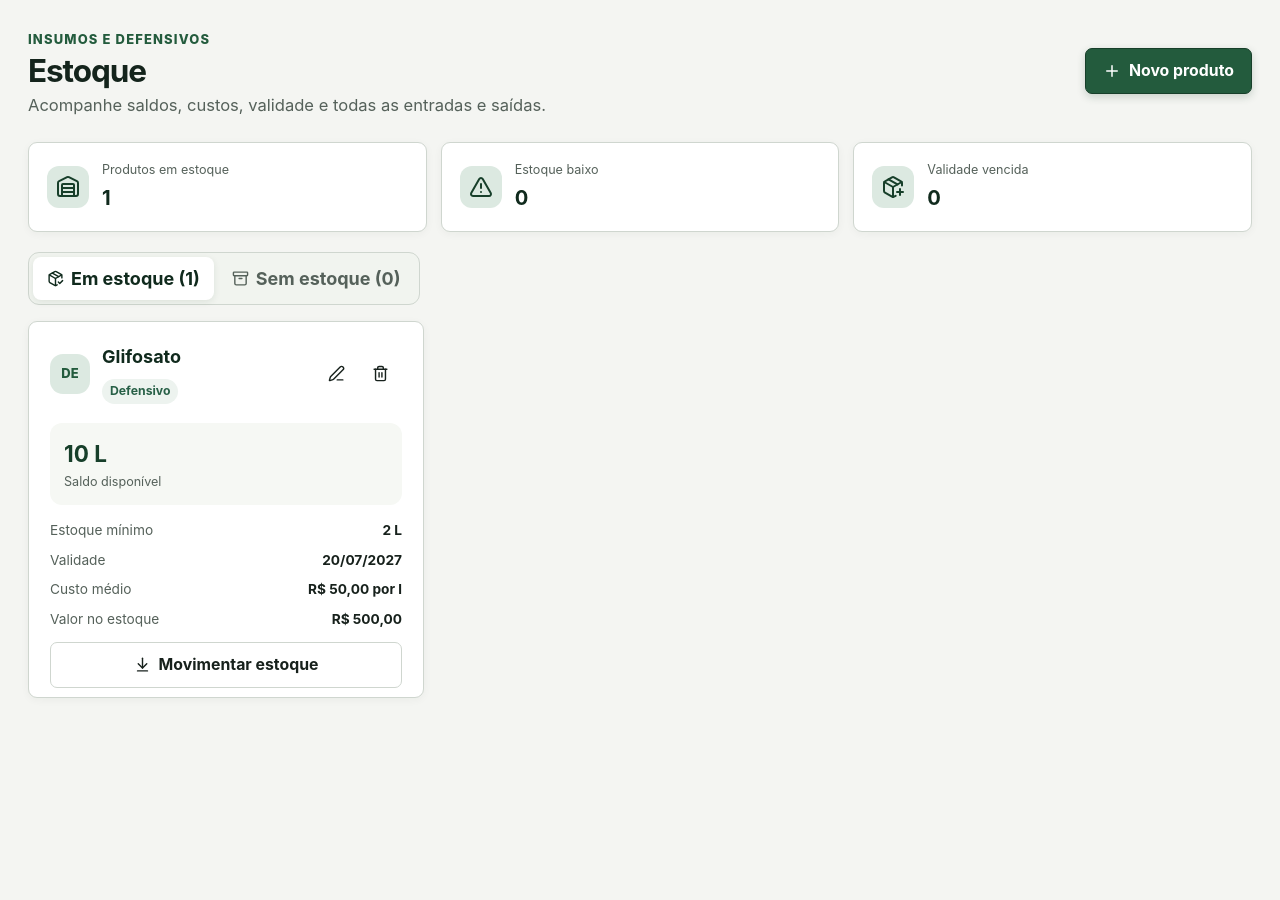
Test case: InventoryPage › informa quando o histórico de movimentações não pode ser carregado
Expected: the heading "Glifosato" is shown, [102,343,181,370]
Click the button "Movimentar estoque". click: (226, 664)
box: [50,642,402,688]
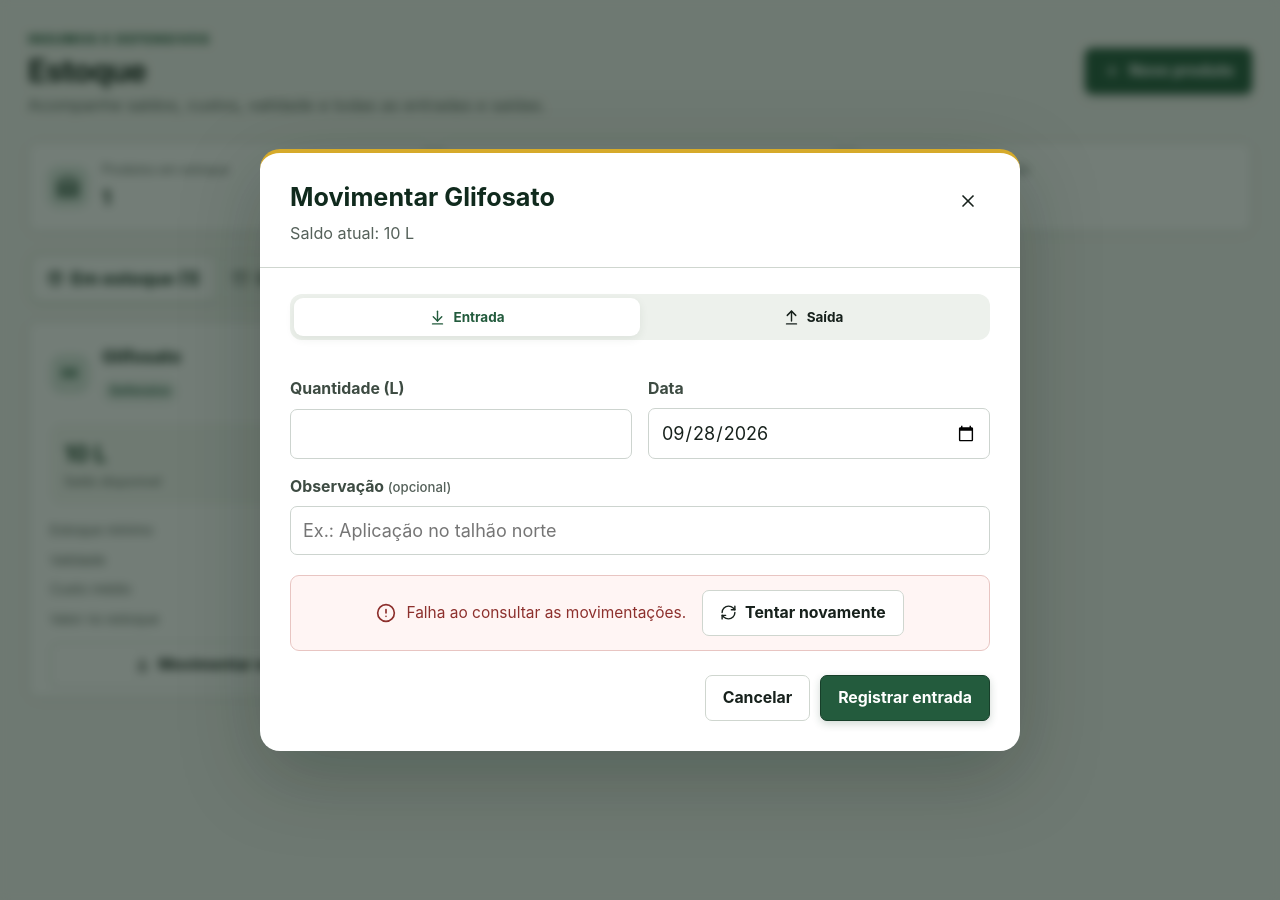
Result: the text "Falha ao consultar as movimentações." is shown at [406,601,686,624]
